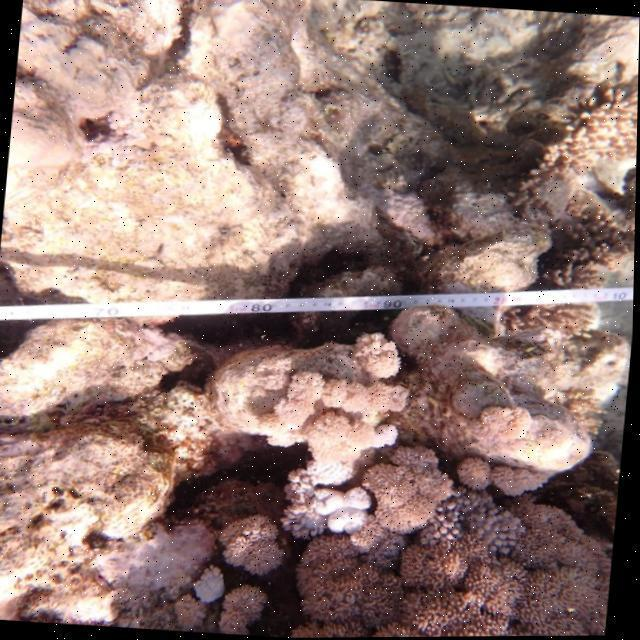Bleached Coral: (292, 461, 409, 551), (178, 556, 248, 610)
Healthy Coral: (315, 558, 548, 640)
